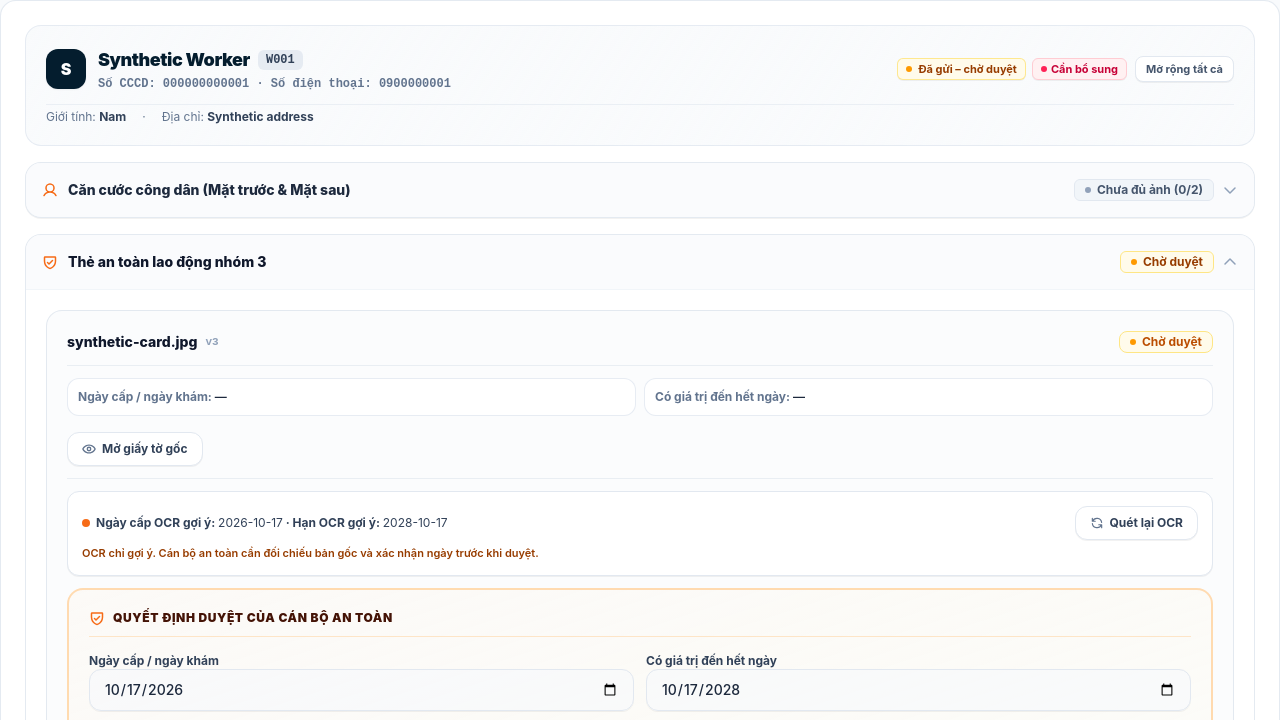
Test: opens pending documents and respects a manual collapse after refresh
Expected: the text "synthetic-card.jpg" is shown, top-left (67, 332), bottom-right (197, 352)
Click the button "Thẻ an toàn lao động nhóm 3 Chờ duyệt": click(167, 262) top-left (26, 235), bottom-right (1254, 289)
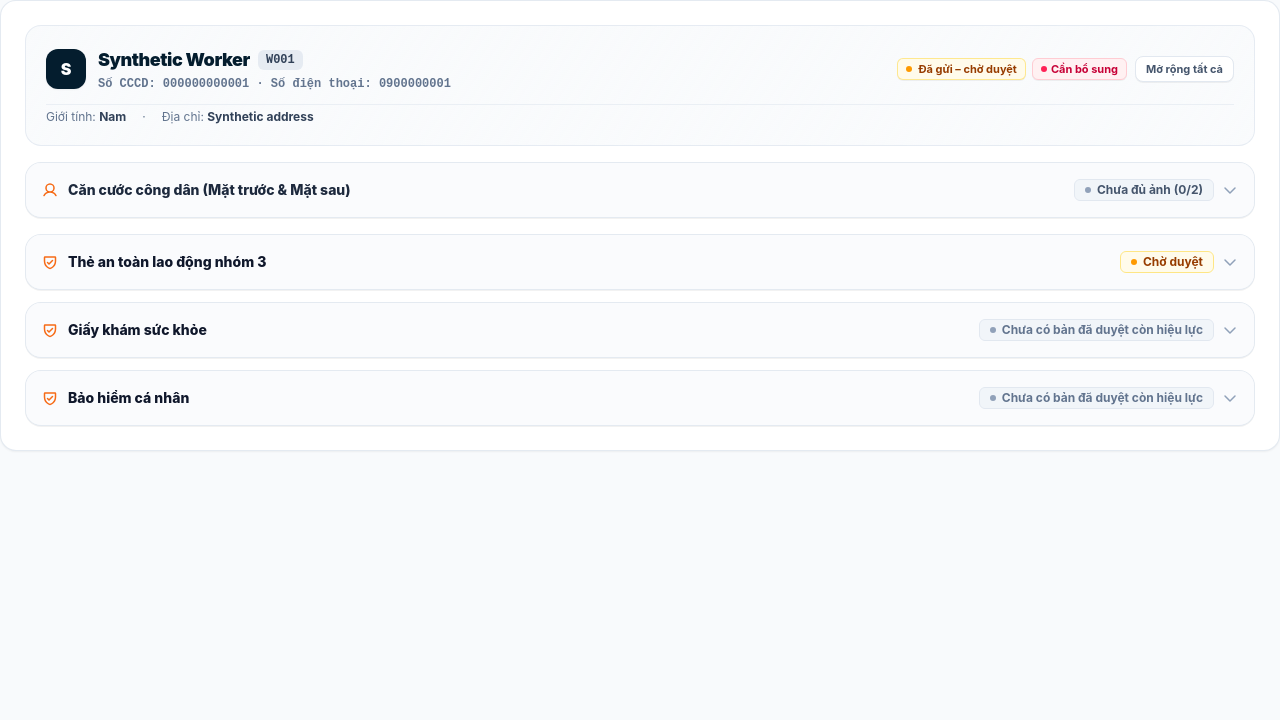
Result: the text "synthetic-card.jpg" is gone
